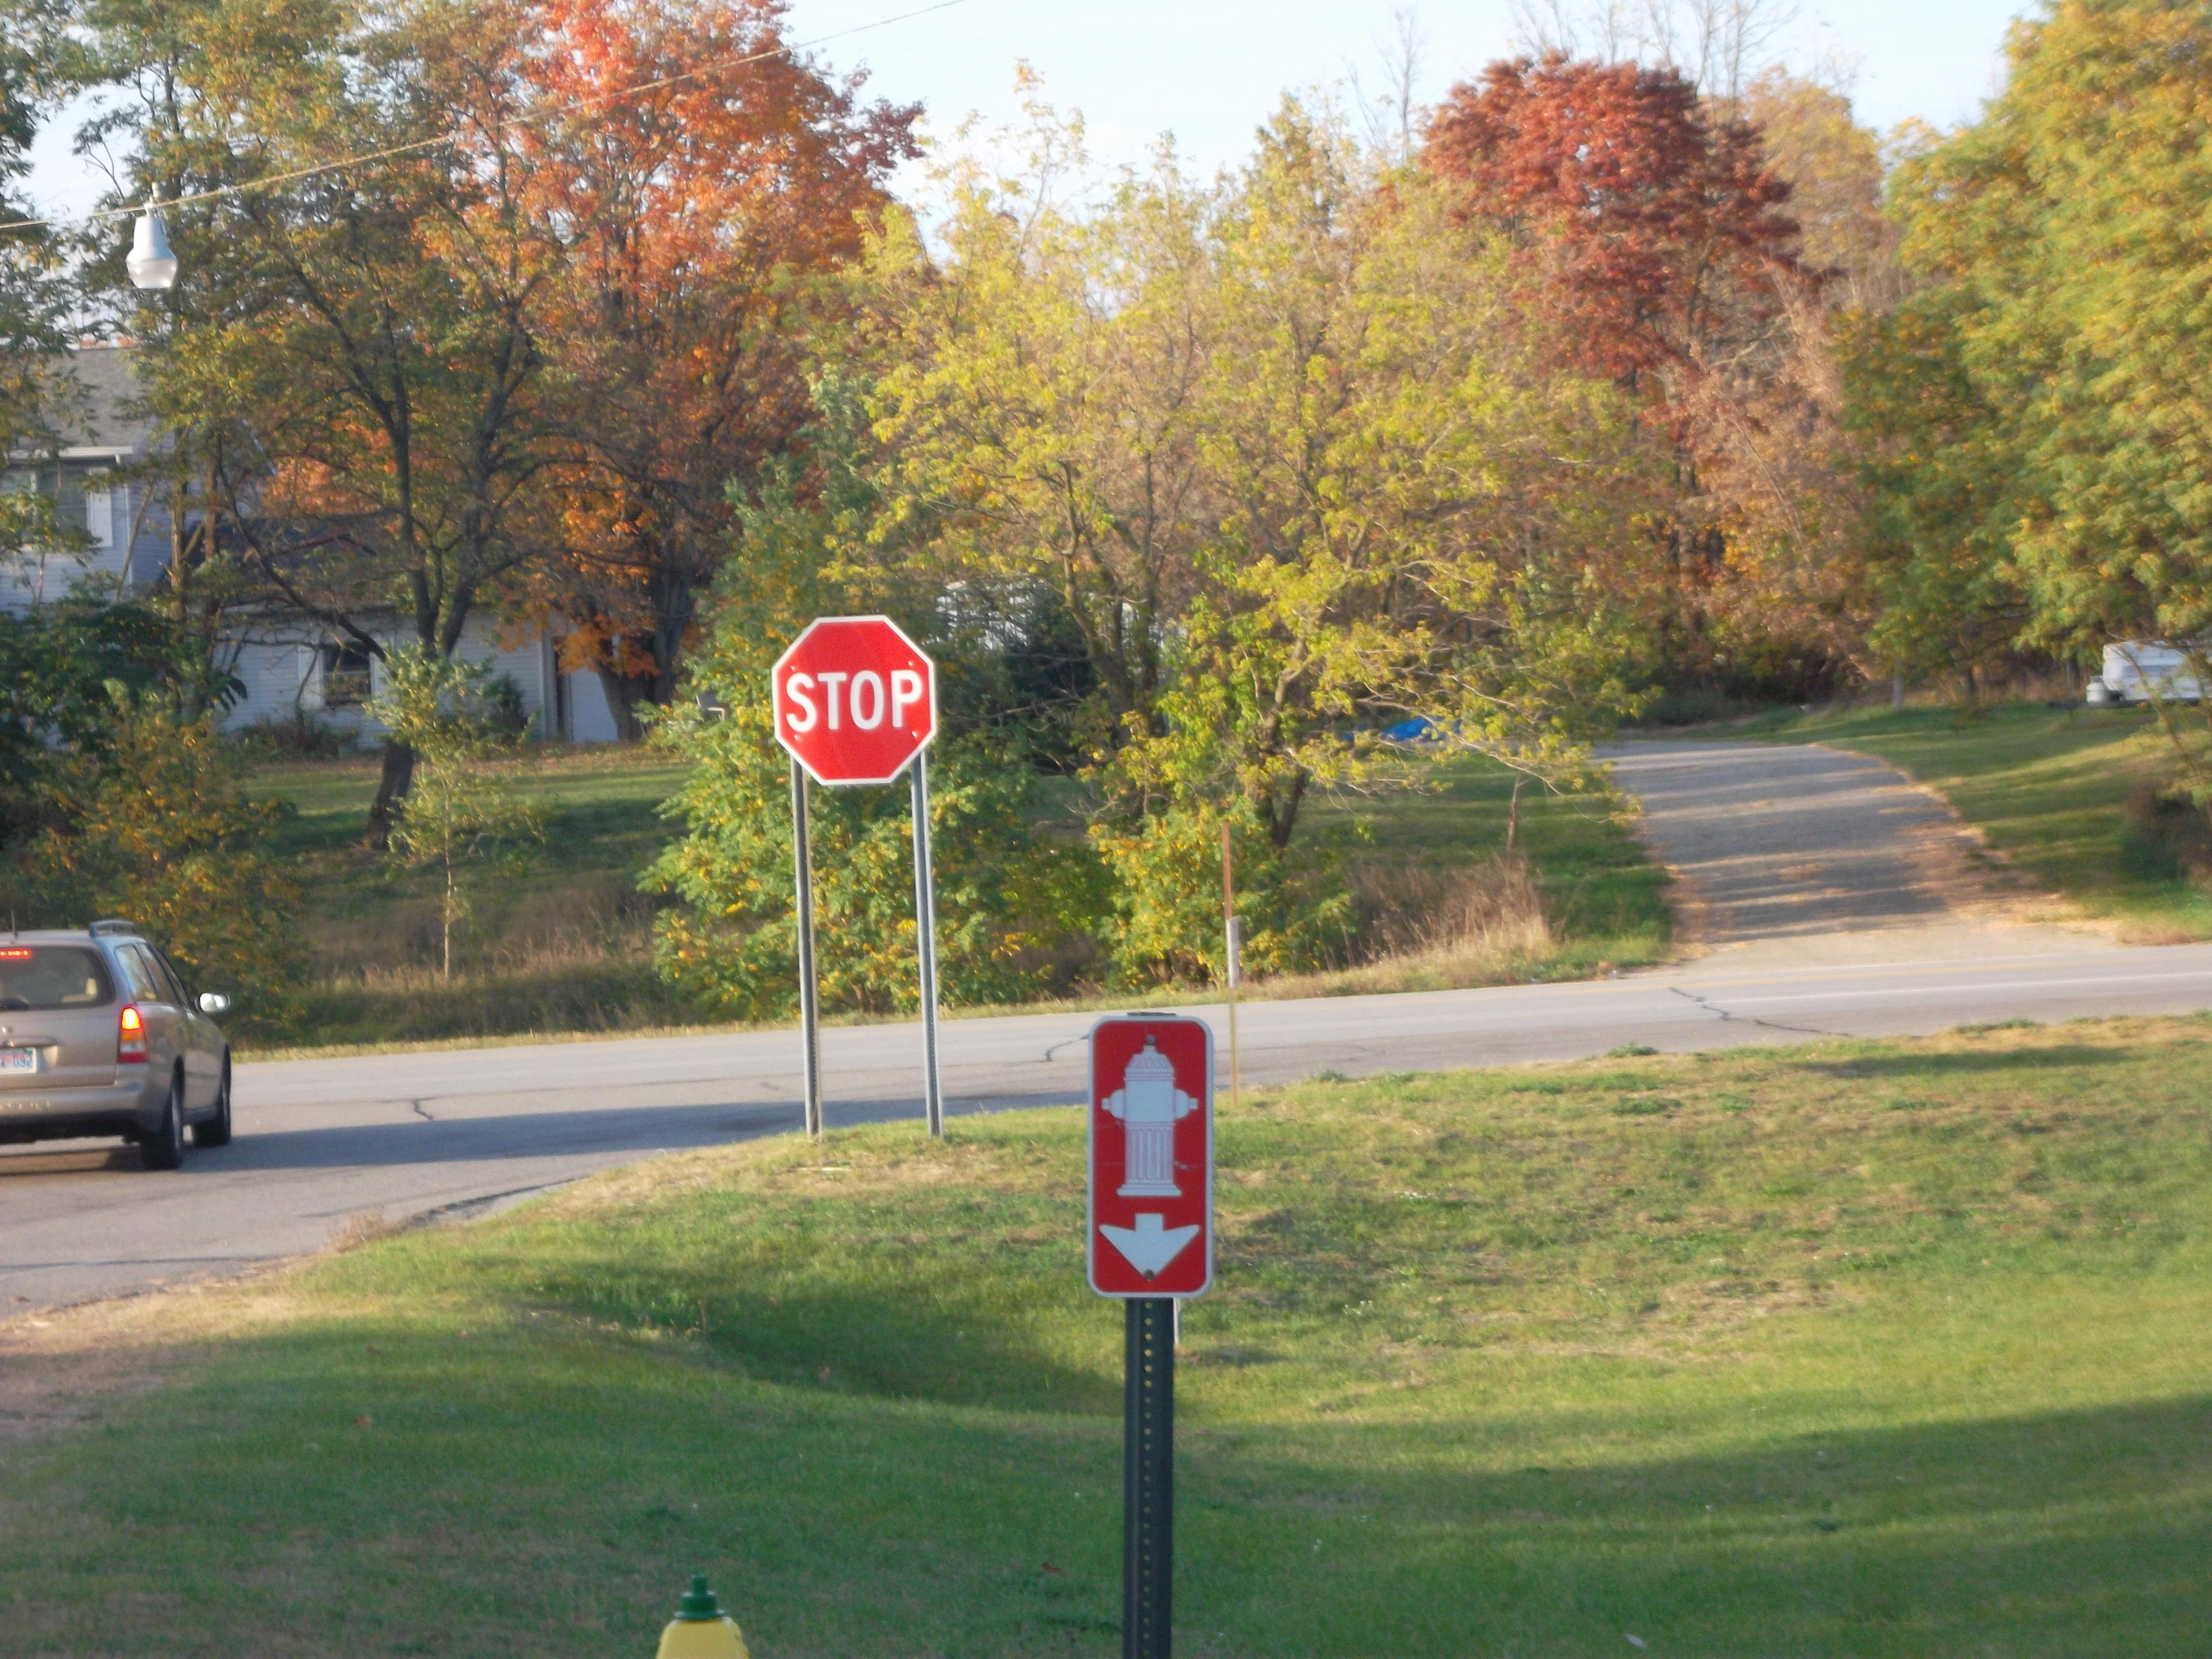stop: (752, 605, 948, 795)
